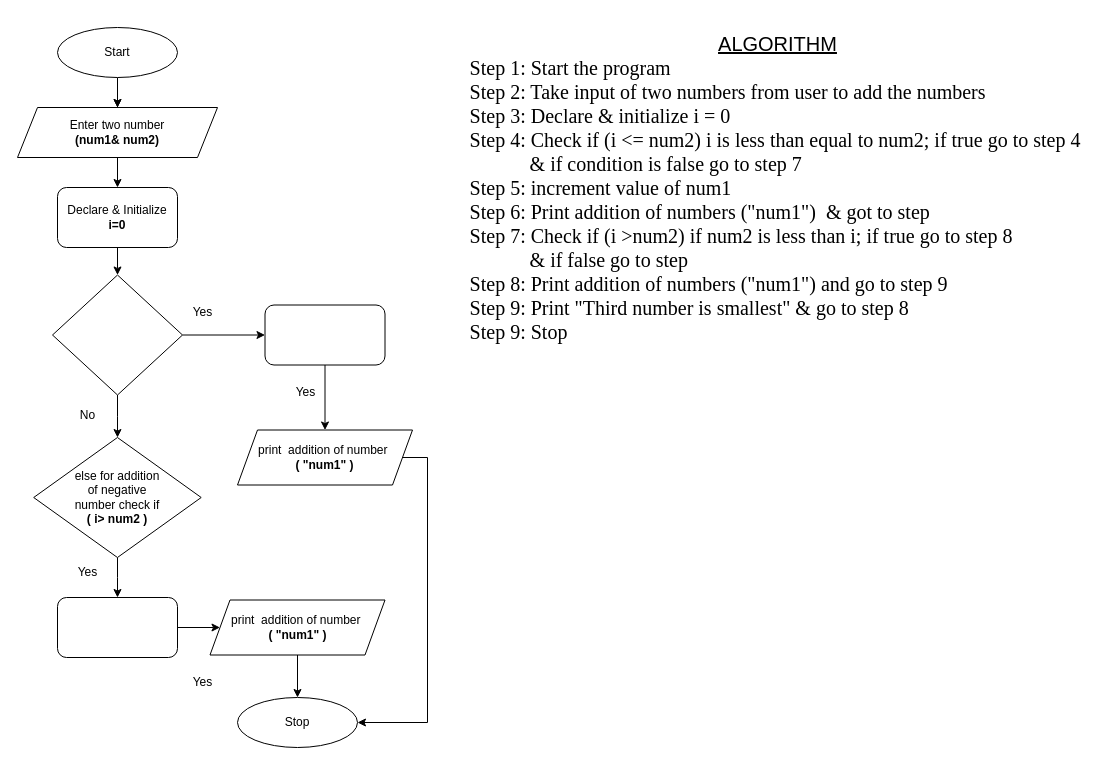
Some shapes in this 1115 by 765 pixel diagram are drawn without their labels. Each missing label, with the centre of its shape:
"decrement num1 (num1 -- )" belongs at point (117, 627).
"for addition of positive number check if ( i< = num2 )" belongs at point (117, 334).
"increment num1 (num1 ++ )" belongs at point (324, 334).
